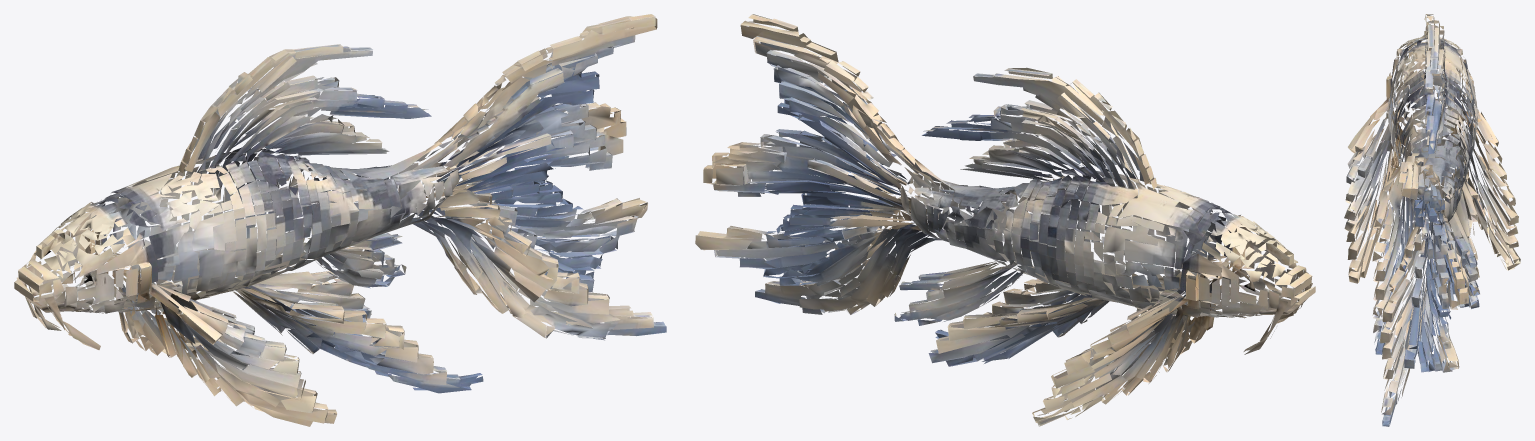
File: butterfly_koi_b.glb
3 views of the same model, side by side, from view 1: azimuth 30°, elevation 25°; view 2: azimuth 150°, elevation 25°; view 3: azimuth 270°, elevation 25° (orthographic). The views are drawn at different scales.
Parts seen in each view (by area): view 1: node_0; view 2: node_0; view 3: node_0.
Part boxes in pixels (x1,y1,x2,y2): node_0: (14, 14, 666, 426); node_0: (695, 14, 1315, 426); node_0: (1344, 14, 1520, 426).
Size of the model in its own units: 1.12 by 0.5853 by 0.3414.
1 material, 1 textured.
